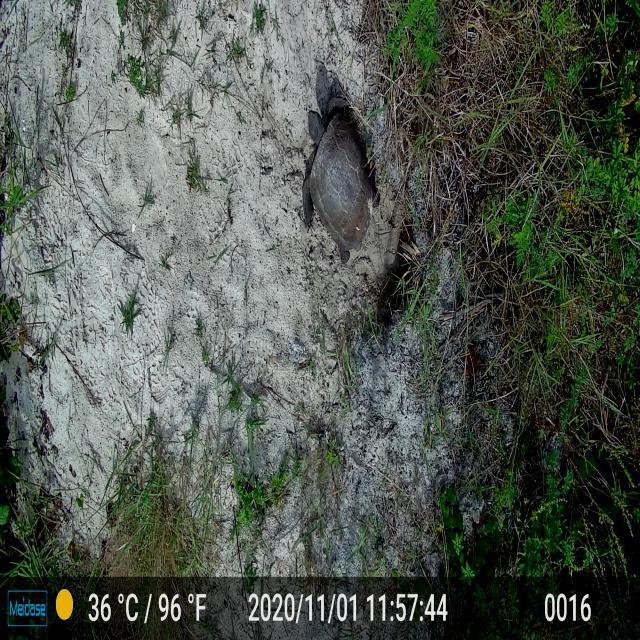tortoise: (298, 91, 383, 269)
